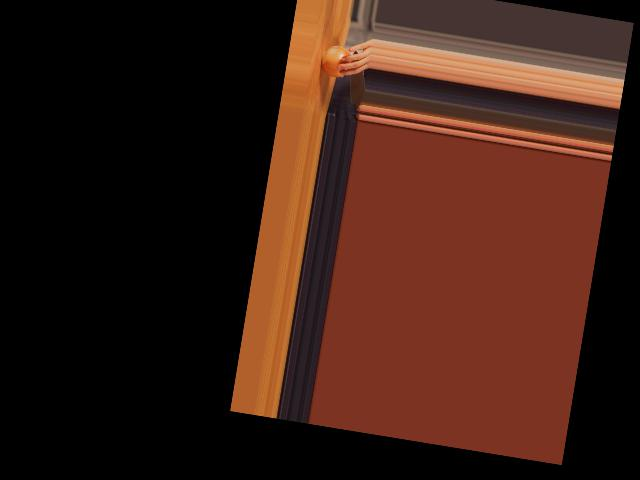onion: (318, 44, 354, 79)
